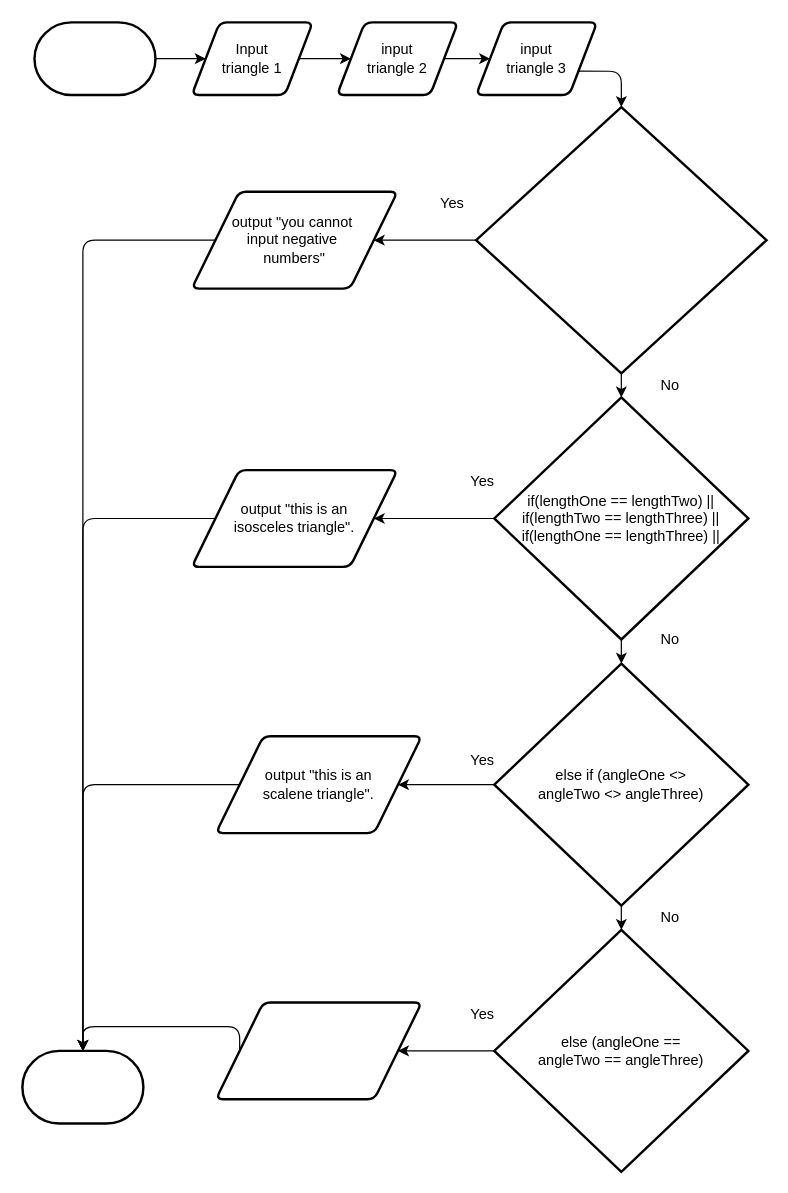
Image size: 788x1193. Some labels were removed from this diagram. Each missing label, with the centre of its shape:
((lengthOne <= 0) || (lengthTwo <= 0) || (lengthThree <= 0)): [620,239]
output "this is an equilateral triangle".: [318,1050]
Start: [94,58]
Stop: [82,1086]
